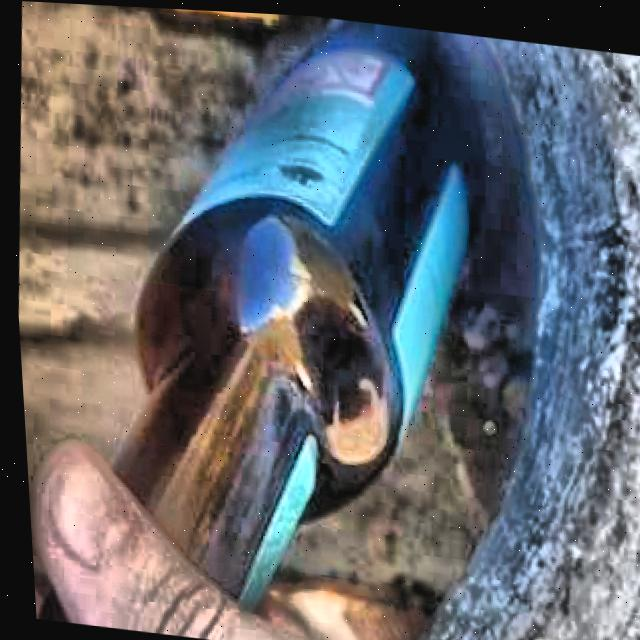glass: (111, 15, 466, 605)
